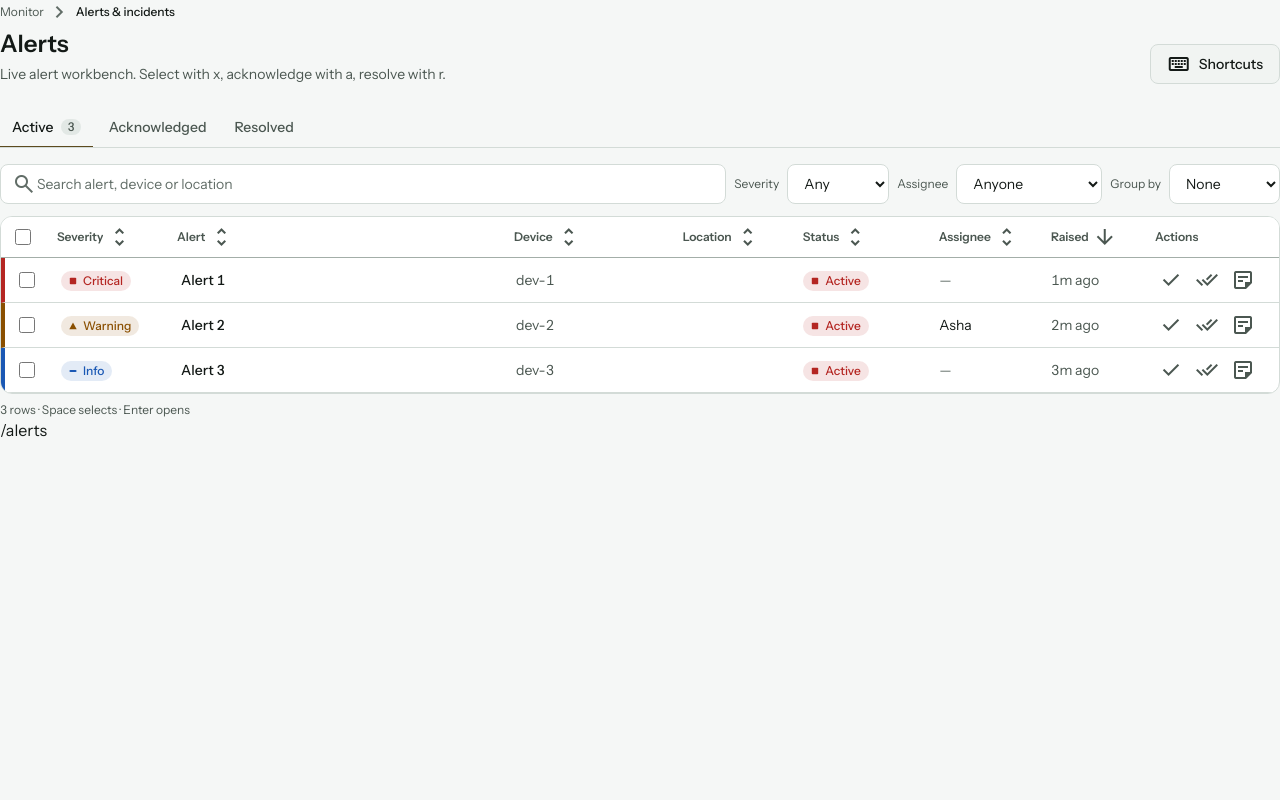
Test: Alerts workbench › triages with the keyboard: j/k move, x selects, a bulk-acknowledges
The image size is (1280, 800).
Press j
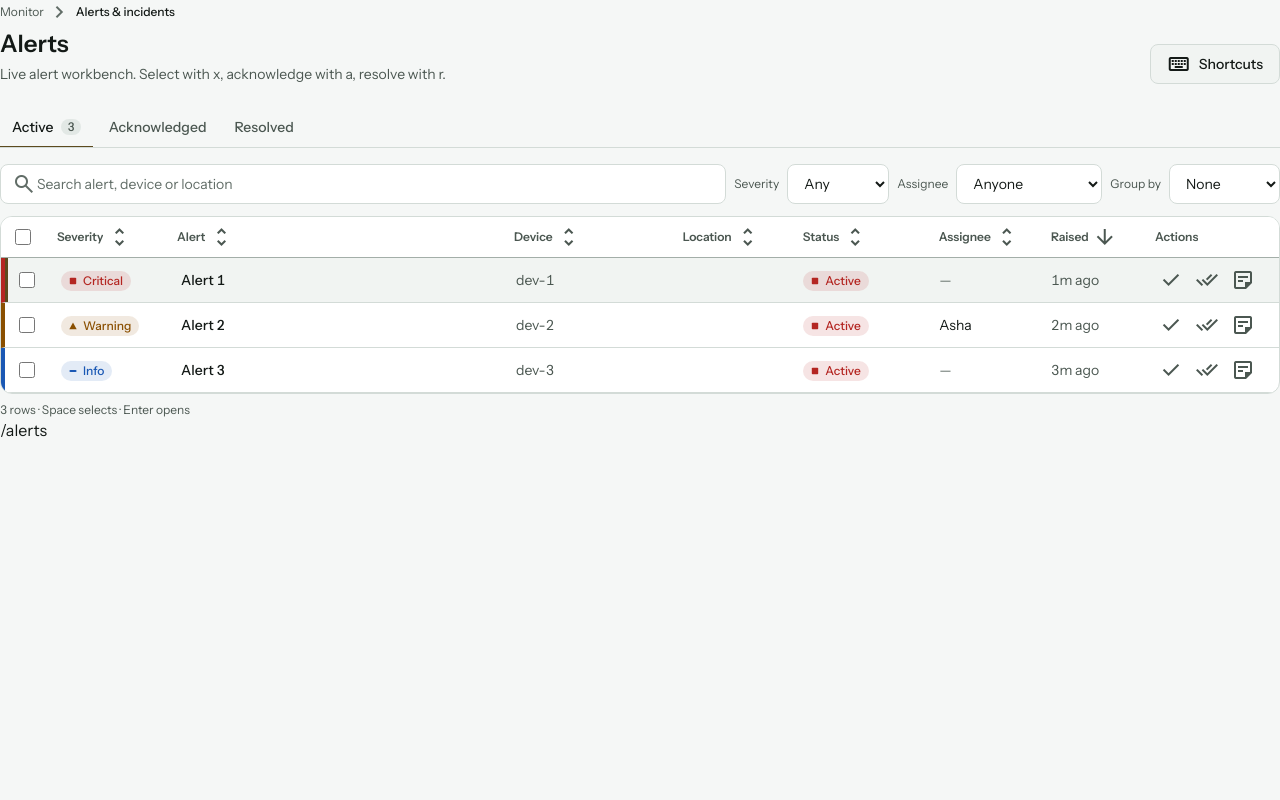
Press x
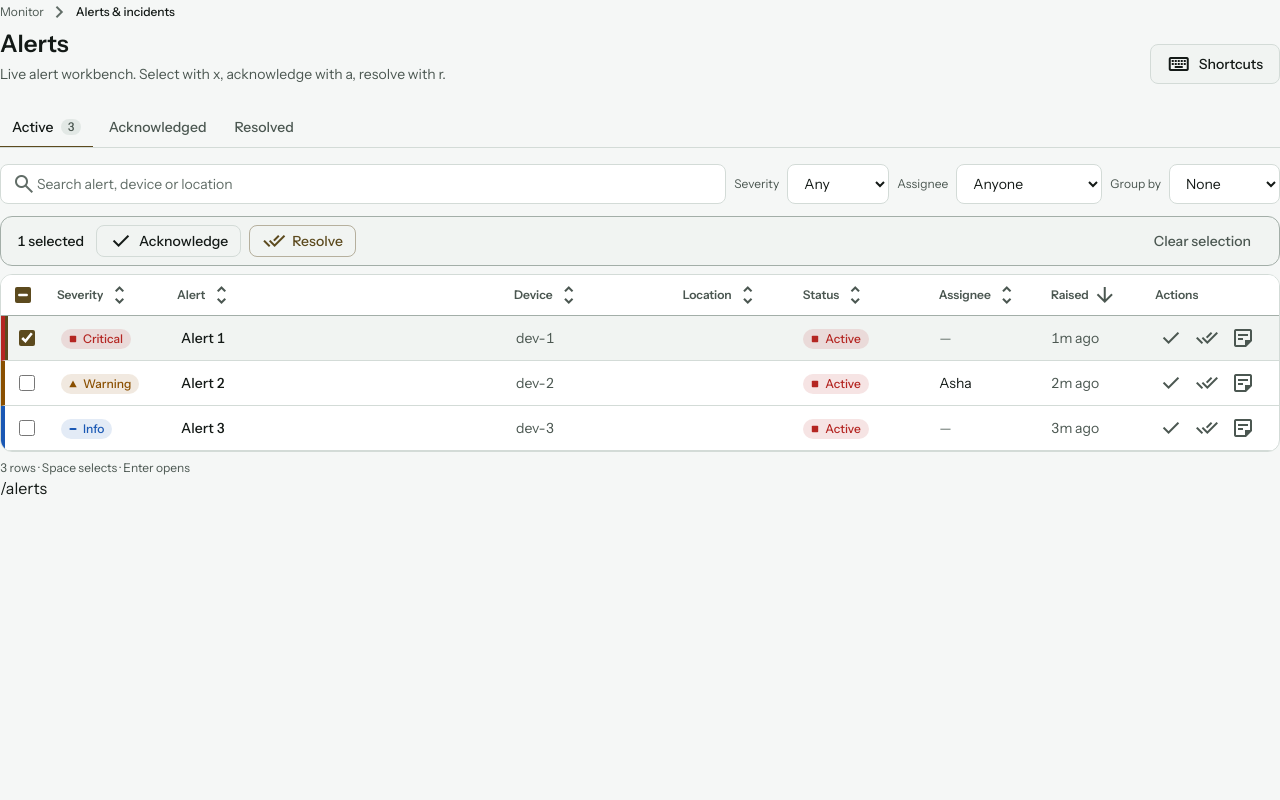
Press j
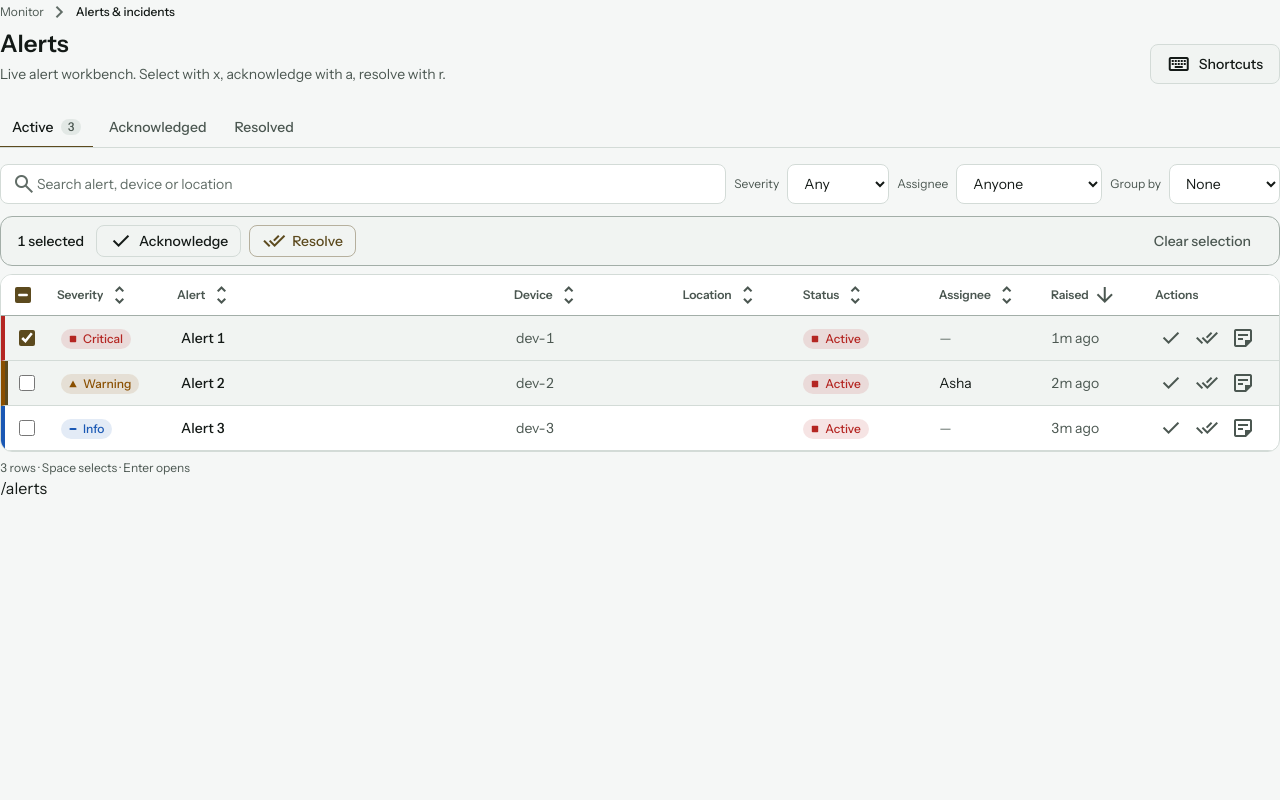
Press x
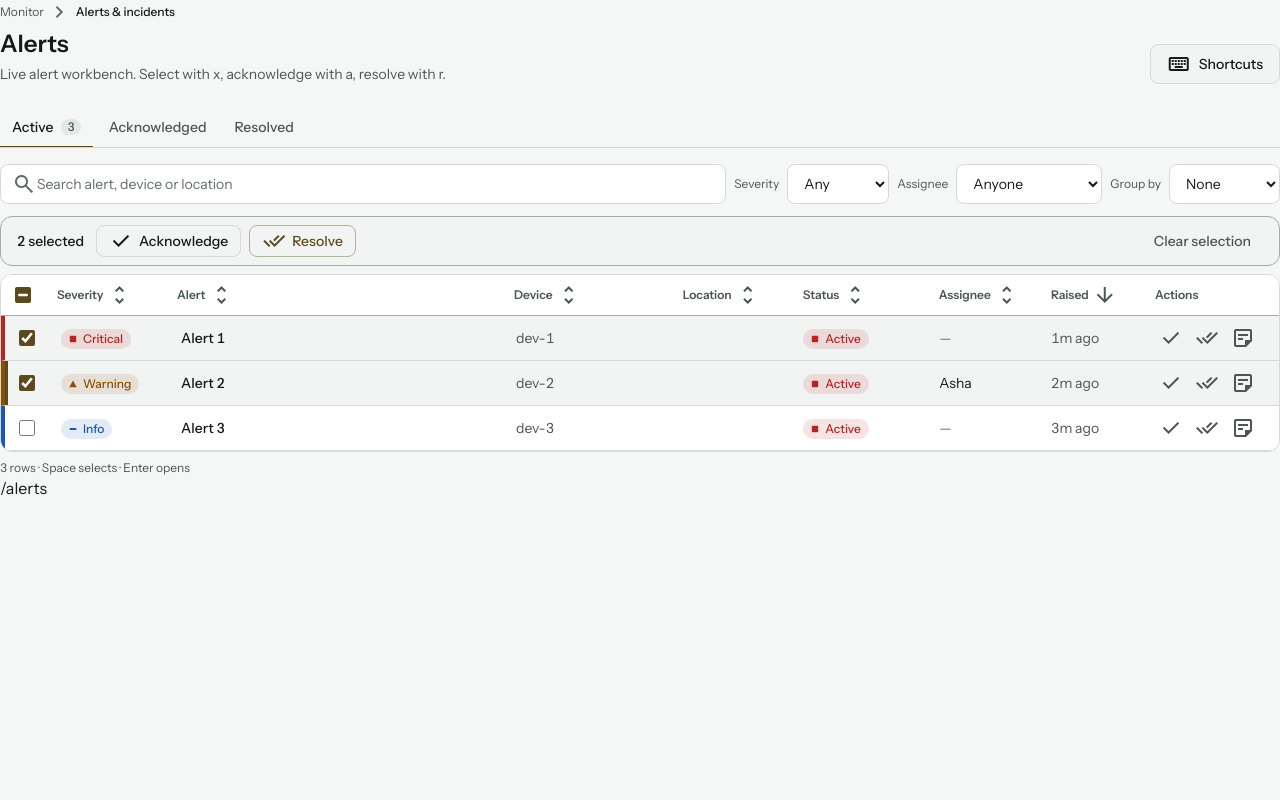
Now the element named "Bulk actions" shows "2 selected", box [0,216,1279,266]
Press a
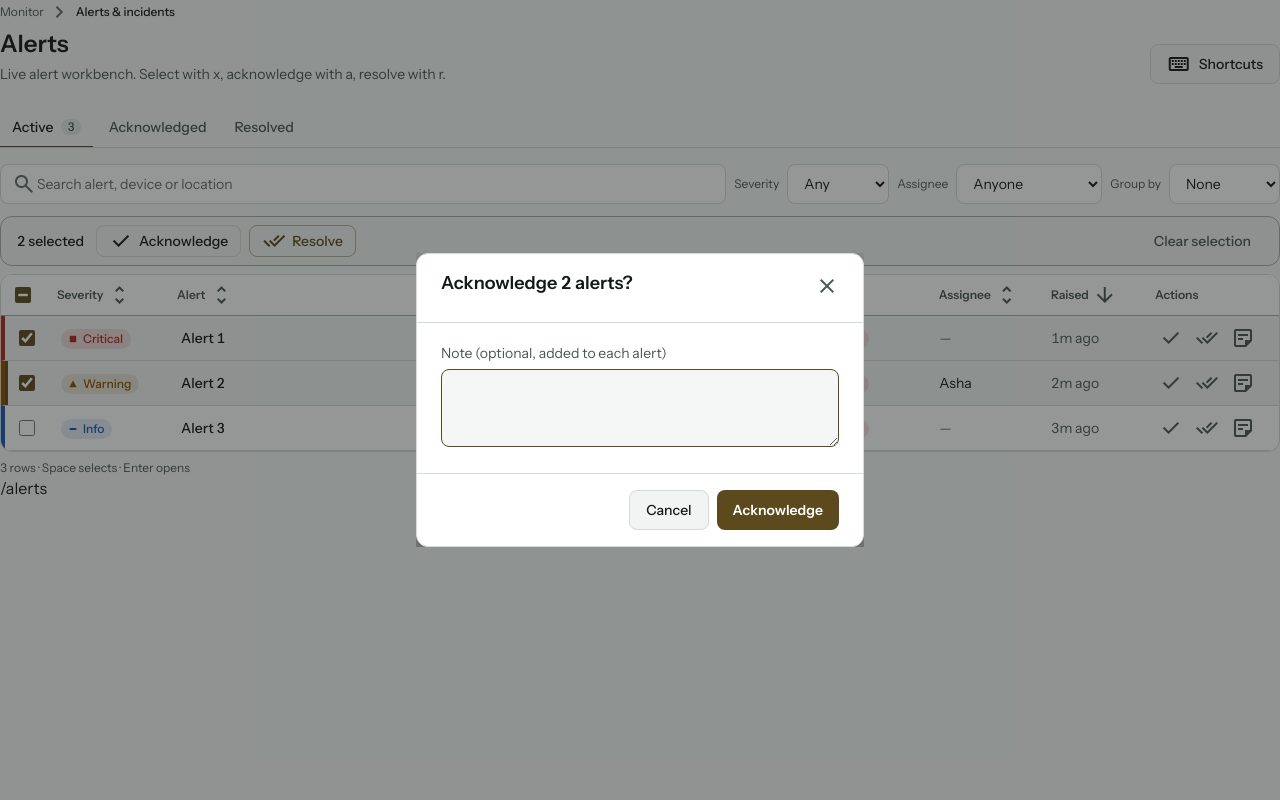
In the text box labelled "Note (optional, added to each alert)": [640, 408] box [441,369,839,447], type "flapping uplink"
Click the button "Acknowledge": [778, 510] box [717,490,839,530]
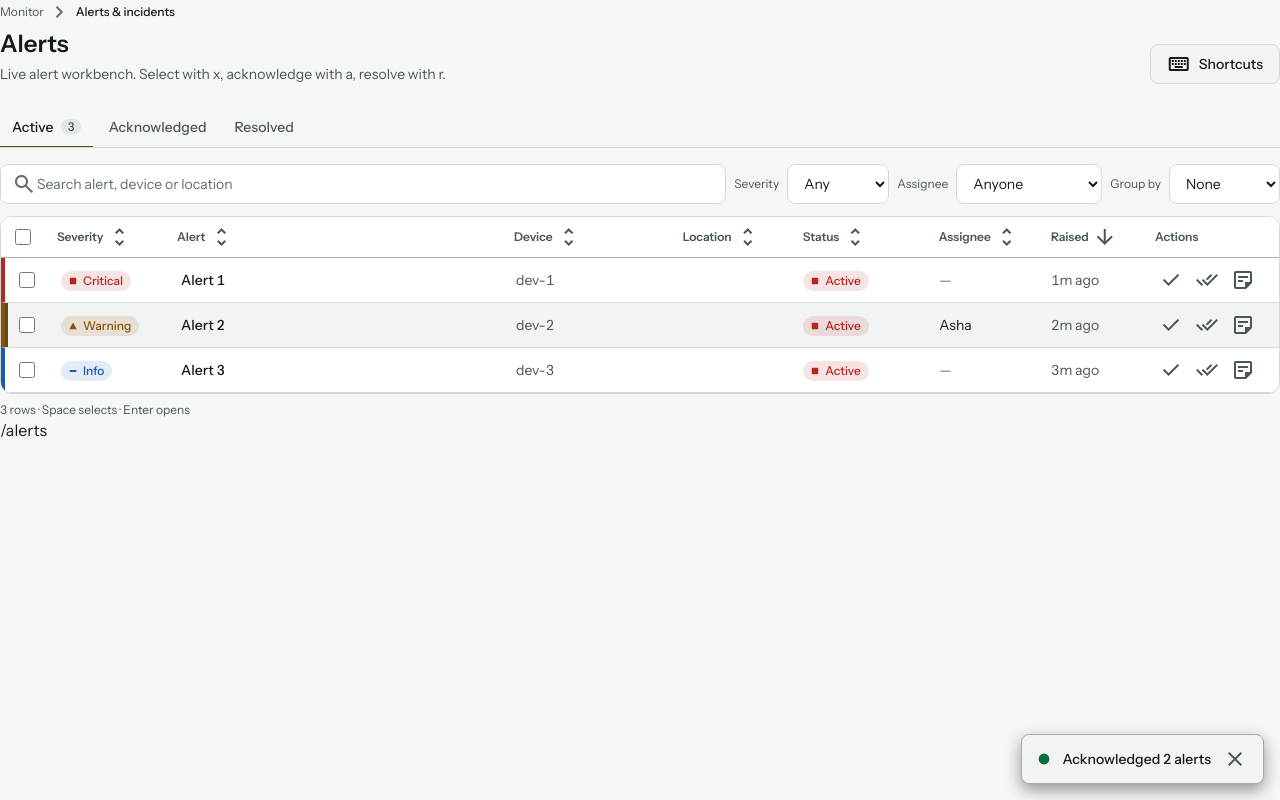
Now the text "Acknowledged 2 alerts" is shown, box [1062,749,1211,769]
